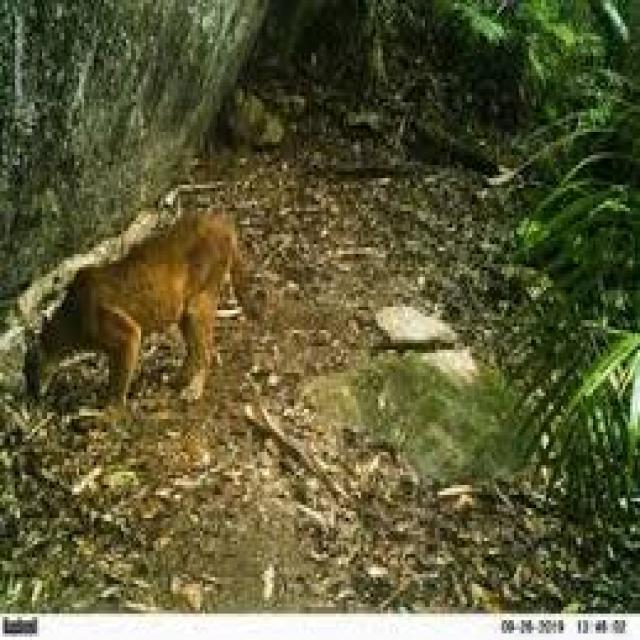Jaguar: (20, 204, 269, 406)
